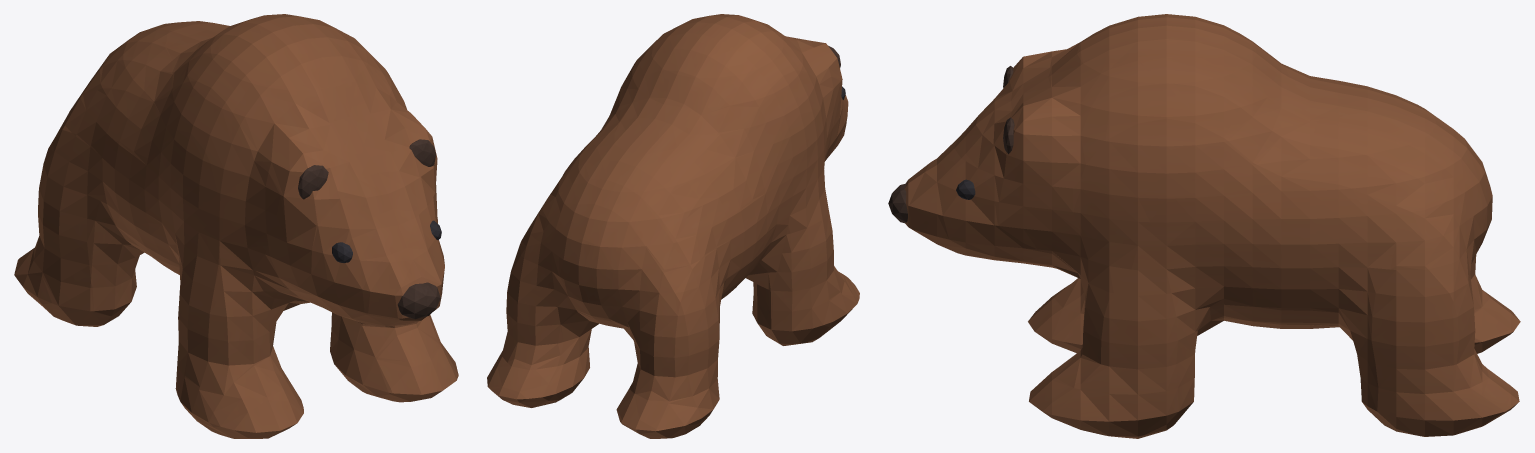
The model's file is beer.glb.
3 renders of one model, left to right at view 1: azimuth 30°, elevation 25°; view 2: azimuth 150°, elevation 25°; view 3: azimuth 270°, elevation 25°, orthographic. The views are drawn at different scales.
Visible parts, largest first — view 1: world; view 2: world; view 3: world.
Boxes of the visible parts, x1,y1,x2,y2 form: world: [14, 14, 458, 438]; world: [487, 14, 859, 438]; world: [888, 14, 1520, 438].
Size of the model in its own units: 0.92 by 1.3 by 1.99.
1 material, 1 textured.
